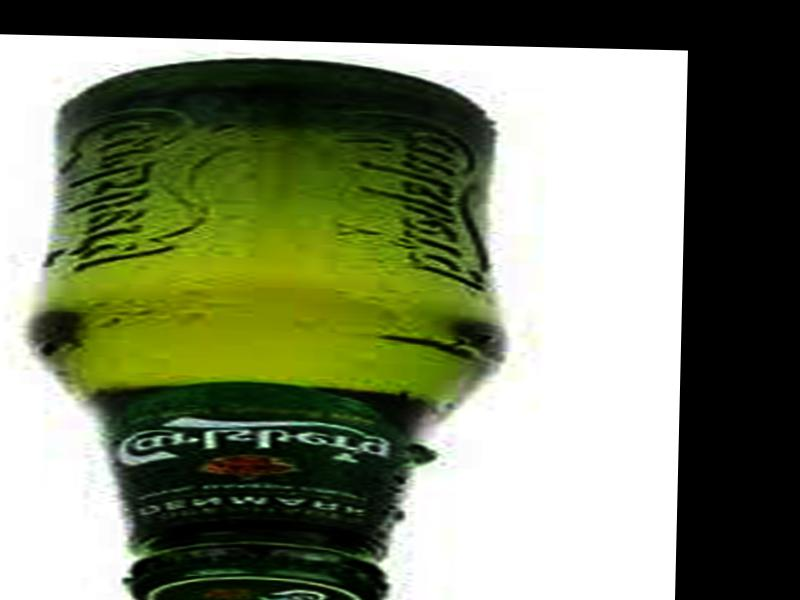Beer: (34, 51, 507, 600)
